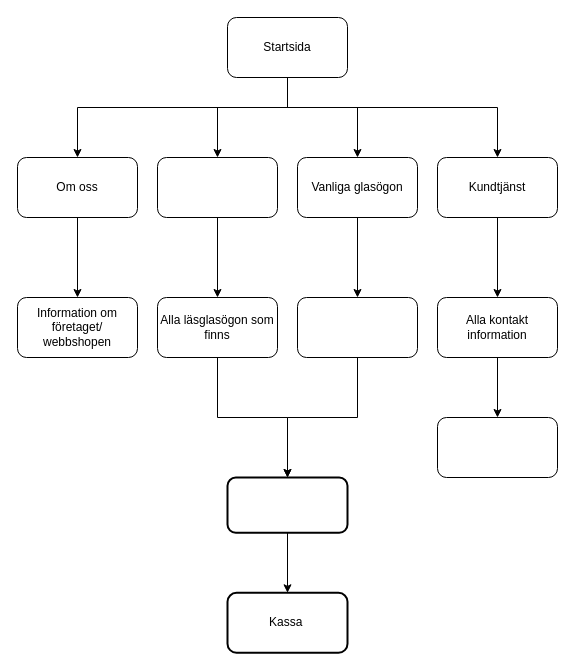
Image size: 575x671. Some labels were removed from this diagram. Each missing label, with the box of its shape:
Alla vanliga glasögon som finns: (296, 296, 418, 358)
Läsglasögon: (156, 156, 278, 218)
Meddelanden: (436, 416, 558, 478)
Varukorg: (226, 476, 348, 533)
